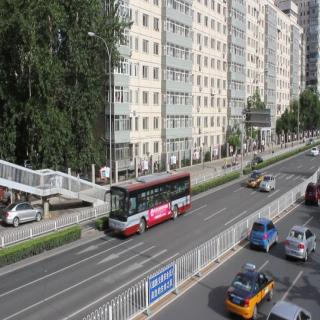BigCar: (106, 175, 197, 231)
Car: (226, 262, 271, 316), (284, 221, 314, 268), (251, 216, 277, 256), (4, 201, 43, 227), (271, 299, 310, 320), (304, 176, 320, 212), (249, 169, 262, 191), (262, 174, 275, 192), (310, 144, 320, 159)
